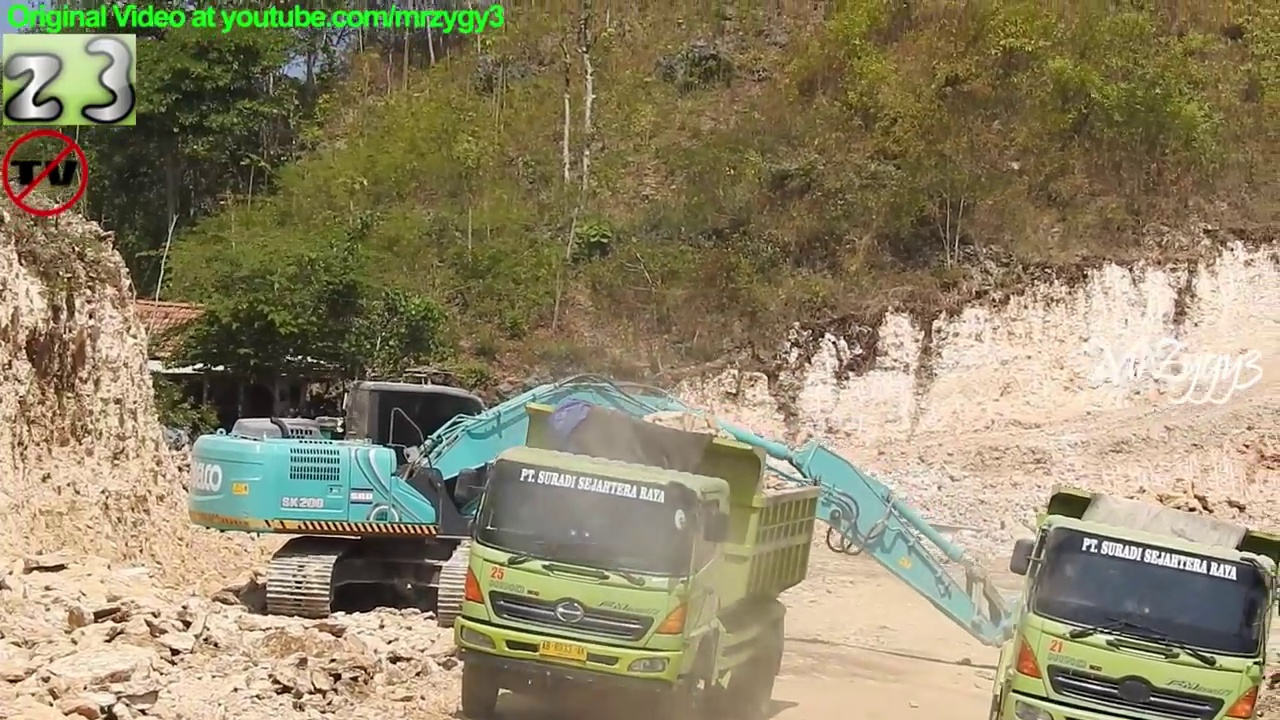excavator: (181, 367, 1160, 659)
truck: (448, 398, 828, 720), (981, 475, 1280, 720)
